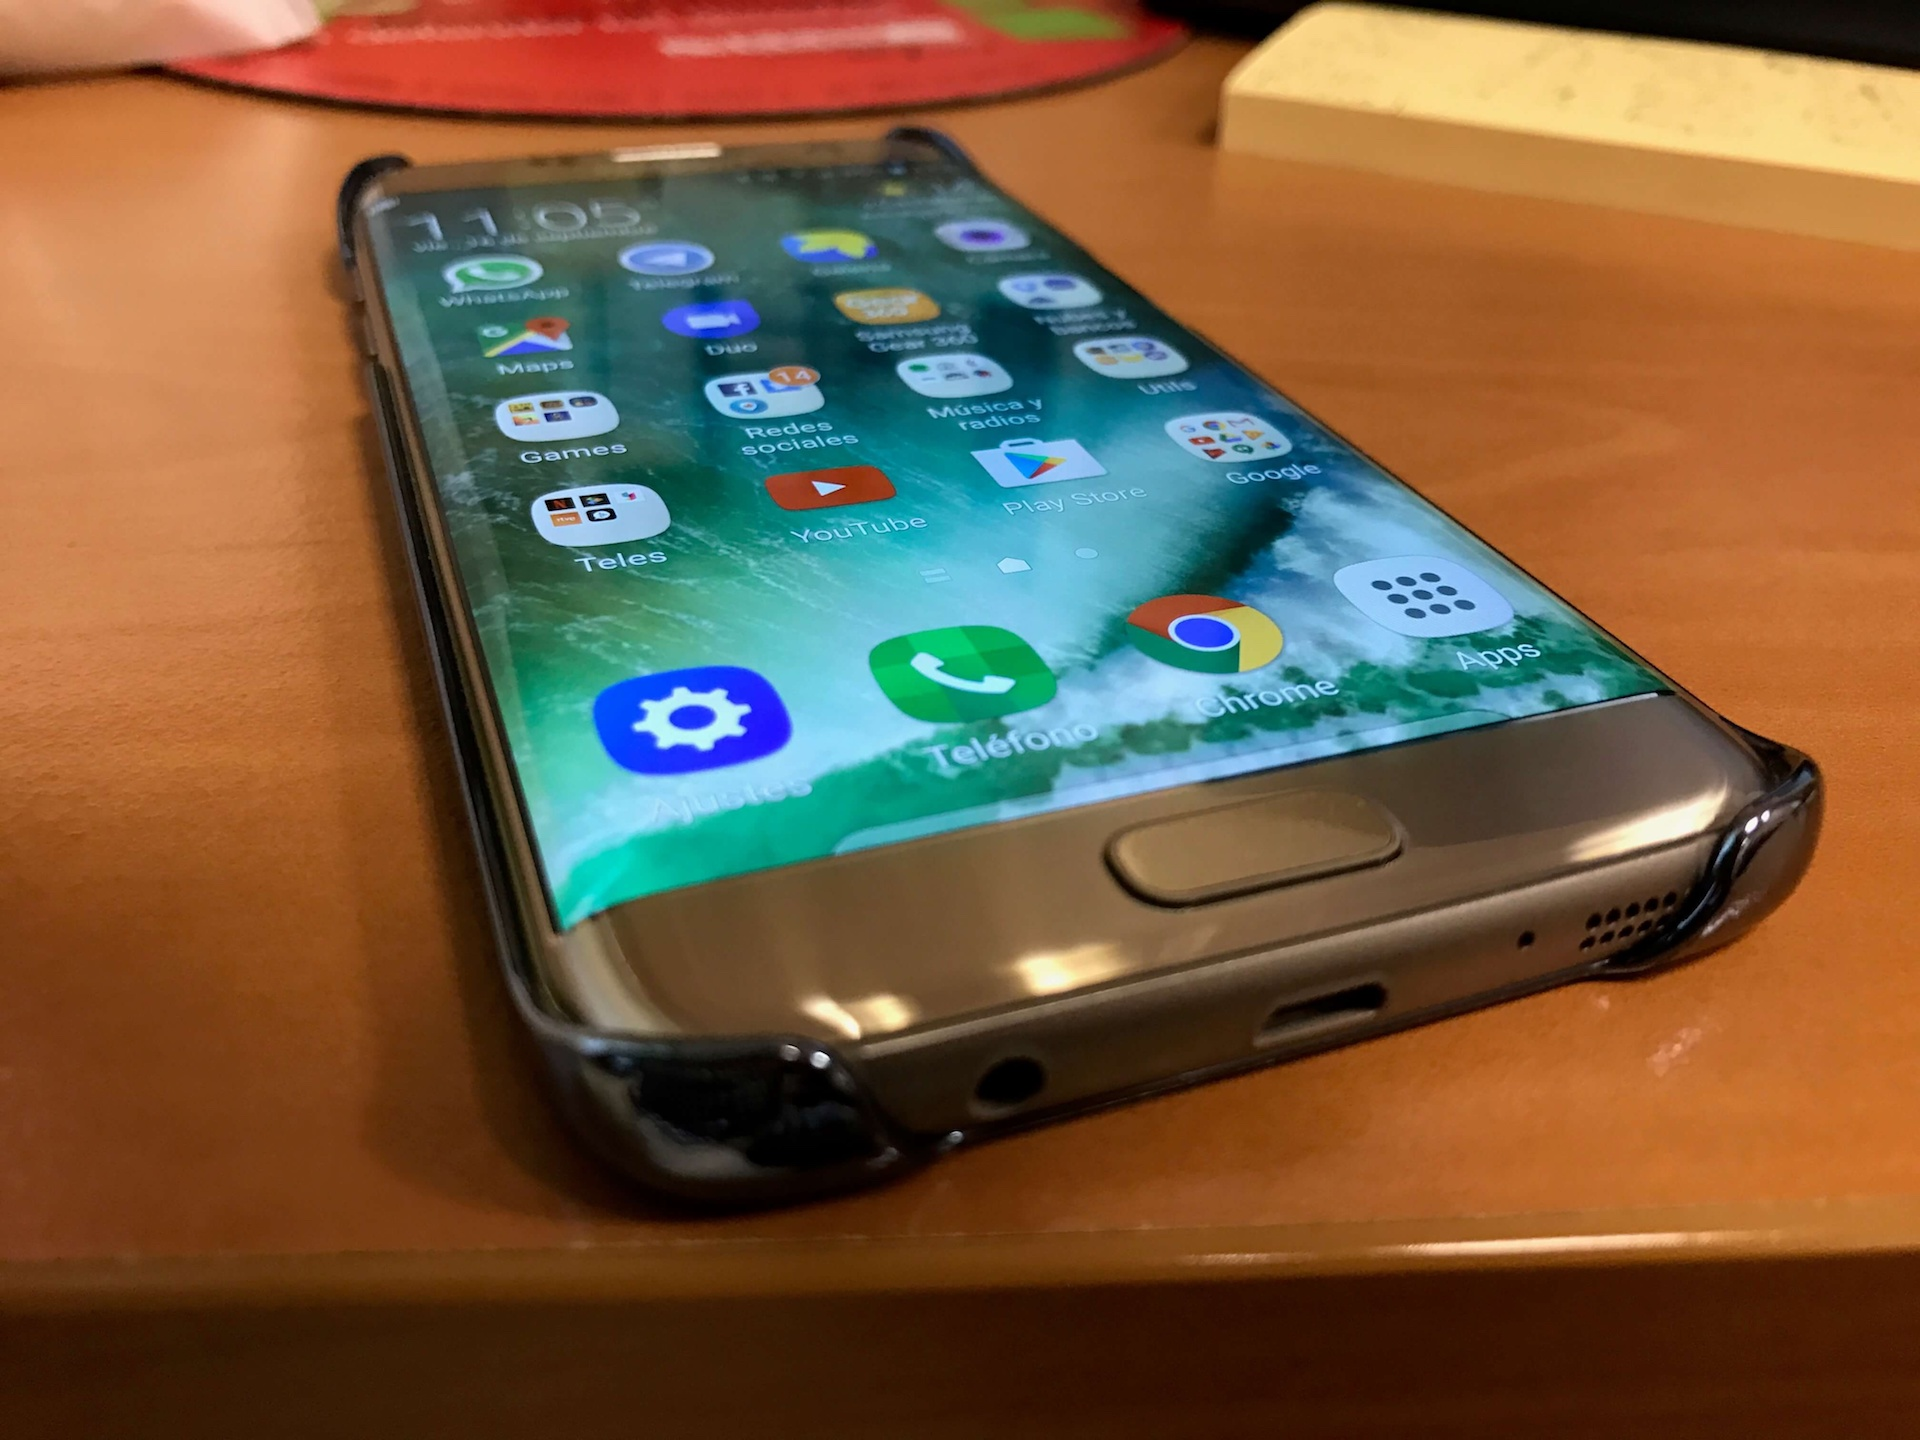smartphone: (345, 135, 1782, 1147)
